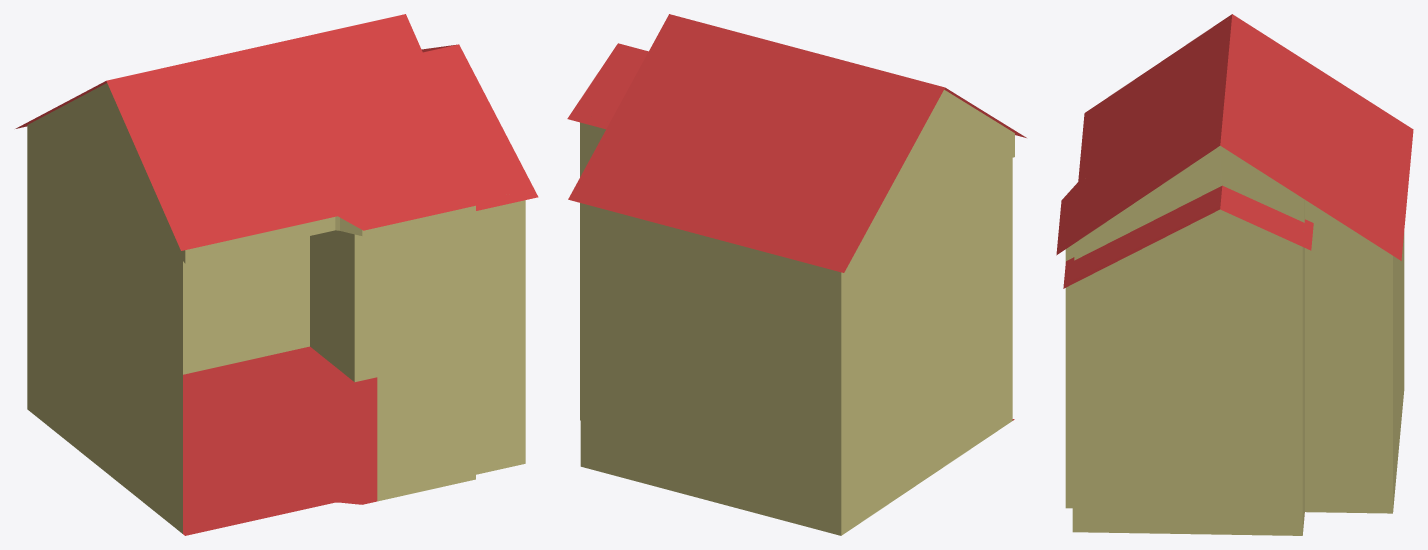
The picture shows the model from 3 angles, left to right: view 1: azimuth 30°, elevation 25°; view 2: azimuth 150°, elevation 25°; view 3: azimuth 270°, elevation 25°; orthographic projection. The views are drawn at different scales.
Visible parts, largest first — view 1: group_9, group_7, group_10, group_5, group_3, group_6, group_4, group_8; view 2: group_9, group_7, group_3, group_8, group_5, group_4; view 3: group_5, group_7, group_9, group_3, group_4, group_8.
Part boxes in pixels (x1,y1,x2,y2): group_9: (27, 83, 475, 533); group_7: (106, 14, 488, 250); group_10: (183, 346, 377, 535); group_5: (350, 200, 525, 474); group_3: (421, 44, 538, 198); group_6: (291, 377, 377, 460); group_4: (422, 45, 537, 210); group_8: (15, 79, 359, 218); group_9: (580, 89, 1014, 535); group_7: (568, 14, 965, 272); group_3: (567, 43, 648, 121); group_8: (568, 89, 1026, 198); group_5: (580, 122, 605, 420); group_4: (568, 44, 624, 129); group_5: (1066, 209, 1313, 535); group_7: (1056, 14, 1413, 260); group_9: (1065, 145, 1404, 513); group_3: (1064, 185, 1310, 288); group_4: (1063, 207, 1313, 288); group_8: (1072, 14, 1400, 260).
Size of the model in its own units: 10.65 by 10.08 by 11.49.
